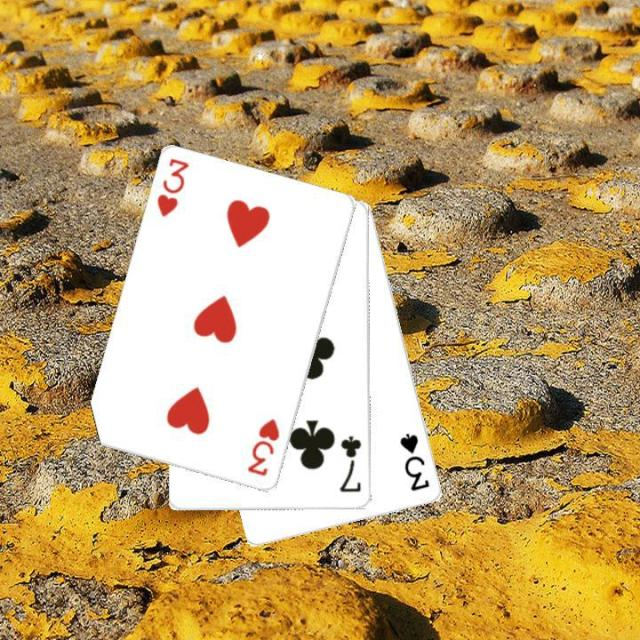3H: (153, 154, 191, 220), (244, 415, 282, 478)
3S: (396, 429, 432, 494)
7C: (336, 433, 364, 495)
